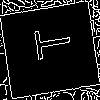T: (25, 24, 73, 62)
